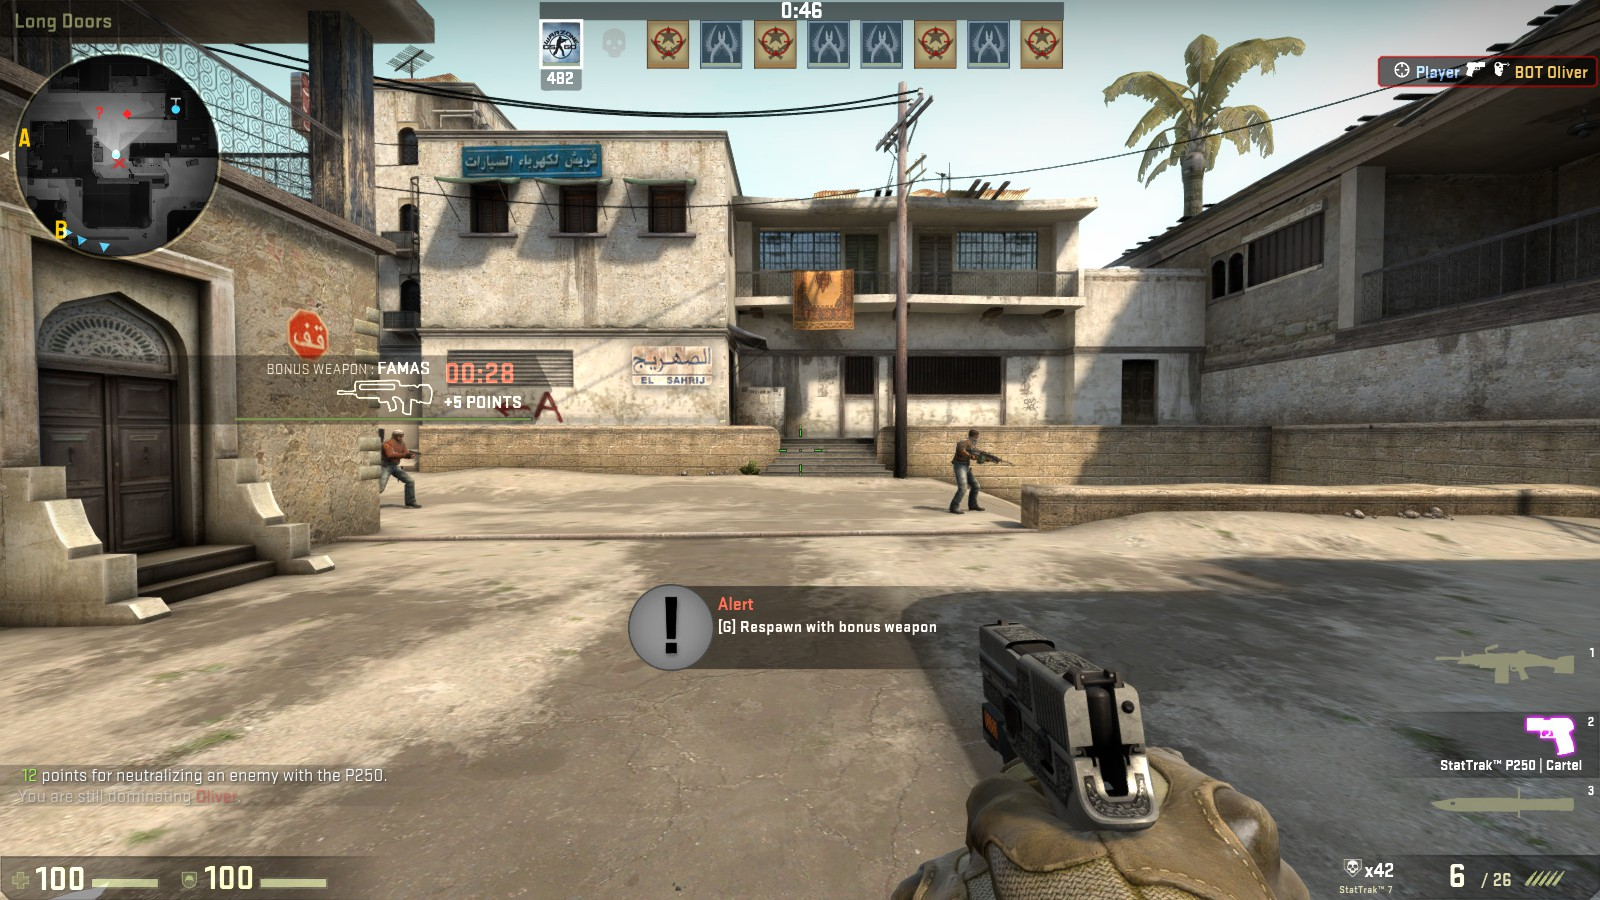t: (375, 431, 418, 507), (948, 427, 984, 514)
th: (967, 427, 981, 445), (392, 429, 405, 443)
